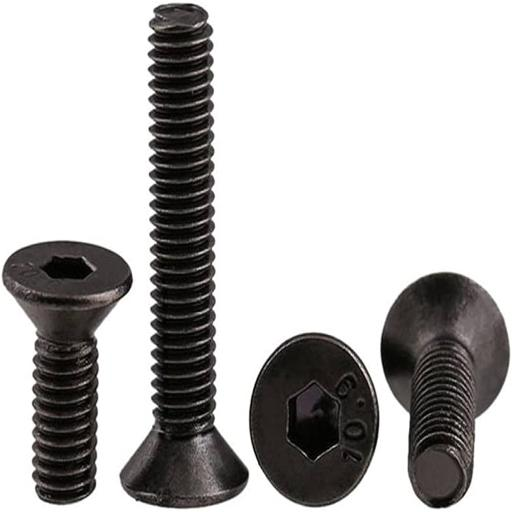Hex-Allen: (244, 324, 381, 508)
